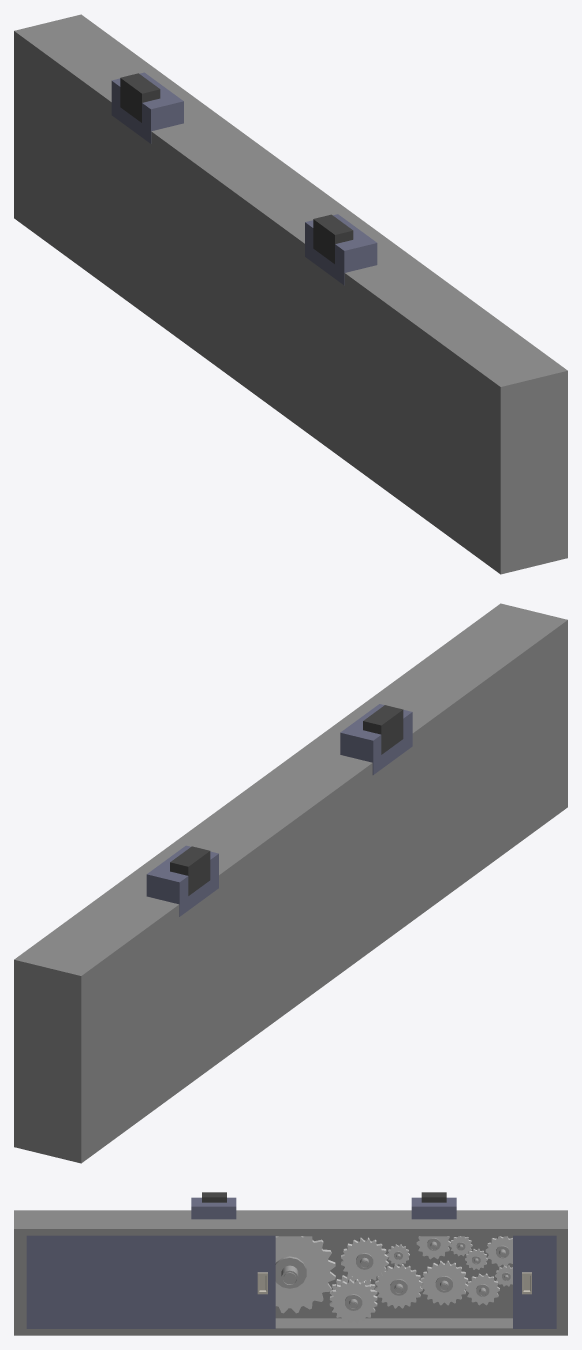
File: ACT3_ControlPanel.fbx
The picture shows the model from 3 angles, top to bottom: view 1: azimuth 30°, elevation 25°; view 2: azimuth 150°, elevation 25°; view 3: azimuth 270°, elevation 25°; orthographic projection. The views are drawn at different scales.
Visible parts, largest first — view 1: ControlPanel_Base, ControlPanel_Bibox_R, ControlPanel_Bibox_L, ControlPanel_Mibox_R, ControlPanel_Mibox_L; view 2: ControlPanel_Base, ControlPanel_Bibox_L, ControlPanel_Bibox_R, ControlPanel_Mibox_L, ControlPanel_Mibox_R; view 3: ControlPanel_Base, ControlPanel_Door_L, ControlPanel_Door_R, ControlPanel_Cog_Big, ControlPanel_Cog_Mid4, ControlPanel_Cog_Mid6, ControlPanel_Cog_Mid5, ControlPanel_Cog_Mid3, ControlPanel_Bibox_R, ControlPanel_Bibox_L, ControlPanel_Cog_SemSmall2, ControlPanel_Cog_SemSmall3 (+10 smaller).
Part boxes in pixels (x1,y1,x2,y2): ControlPanel_Base: (14, 14, 567, 574); ControlPanel_Bibox_R: (111, 72, 183, 143); ControlPanel_Bibox_L: (305, 214, 377, 285); ControlPanel_Mibox_R: (120, 73, 160, 122); ControlPanel_Mibox_L: (313, 214, 353, 263); ControlPanel_Base: (14, 603, 567, 1163); ControlPanel_Bibox_L: (340, 704, 412, 774); ControlPanel_Bibox_R: (146, 845, 218, 916); ControlPanel_Mibox_L: (363, 705, 403, 754); ControlPanel_Mibox_R: (170, 846, 210, 895); ControlPanel_Base: (14, 1210, 567, 1335); ControlPanel_Door_L: (26, 1235, 275, 1328); ControlPanel_Door_R: (513, 1235, 556, 1328); ControlPanel_Cog_Big: (275, 1236, 335, 1313); ControlPanel_Cog_Mid4: (341, 1237, 388, 1282); ControlPanel_Cog_Mid6: (420, 1260, 468, 1305); ControlPanel_Cog_Mid5: (329, 1279, 377, 1323); ControlPanel_Cog_Mid3: (375, 1264, 422, 1308); ControlPanel_Bibox_R: (411, 1197, 456, 1219); ControlPanel_Bibox_L: (191, 1197, 236, 1219); ControlPanel_Cog_SemSmall2: (465, 1273, 499, 1305); ControlPanel_Cog_SemSmall3: (485, 1236, 512, 1266).
Bounding box in the file's own units: 0.8719 × 2.56 × 10.31.
